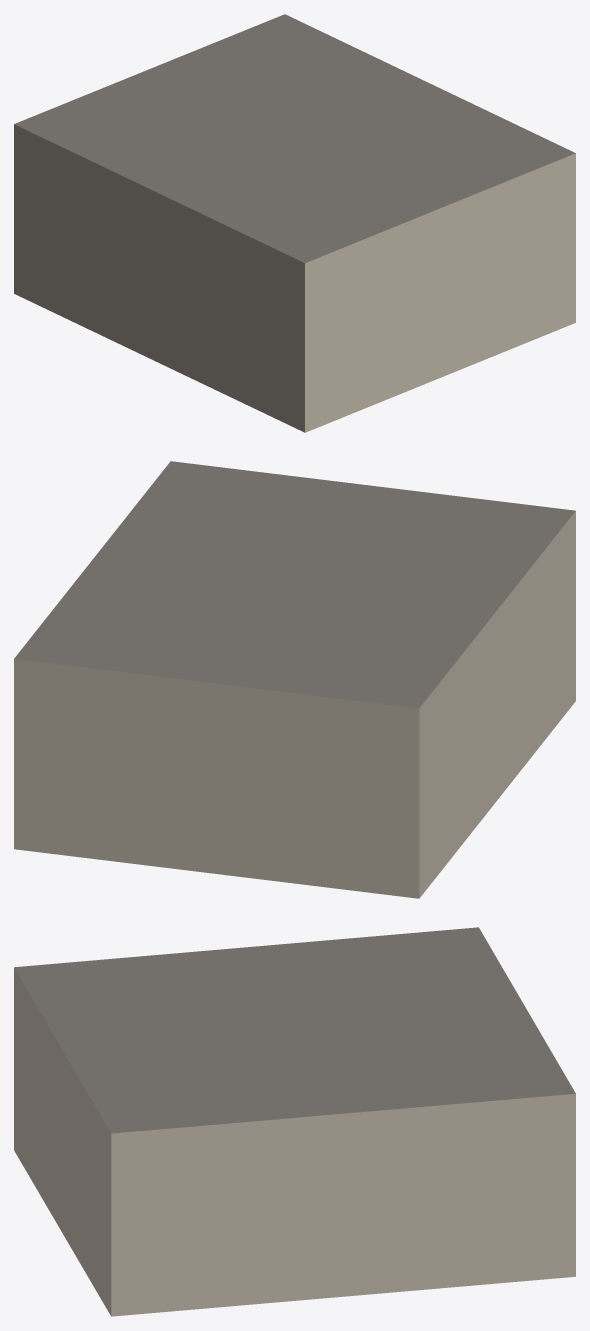
3 renders of one model, top to bottom at view 1: azimuth 30°, elevation 25°; view 2: azimuth 150°, elevation 25°; view 3: azimuth 270°, elevation 25°, orthographic. The views are drawn at different scales.
Visible parts, largest first — view 1: HP-w435452364; view 2: HP-w435452364; view 3: HP-w435452364.
Part boxes in pixels (x1=…): HP-w435452364: x1=14, y1=14, x2=575, y2=432; HP-w435452364: x1=14, y1=461, x2=575, y2=898; HP-w435452364: x1=14, y1=927, x2=575, y2=1316.
Size of the model in its own units: 43.52 by 18 by 50.09.
